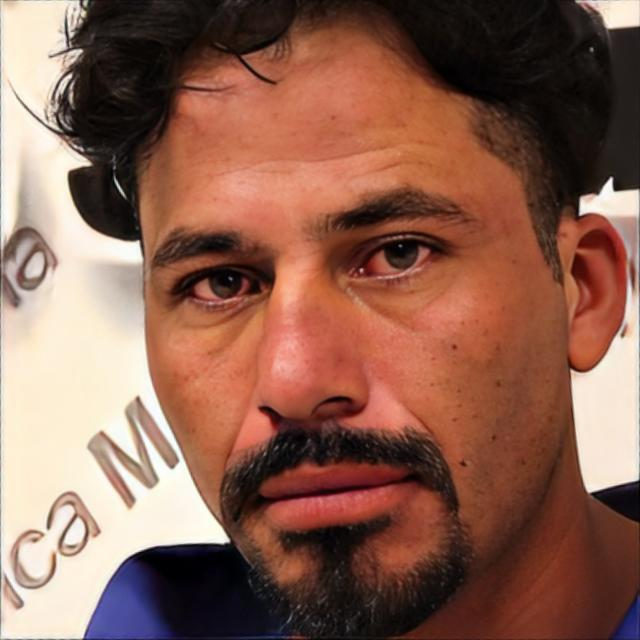neutral: (130, 0, 560, 640)
